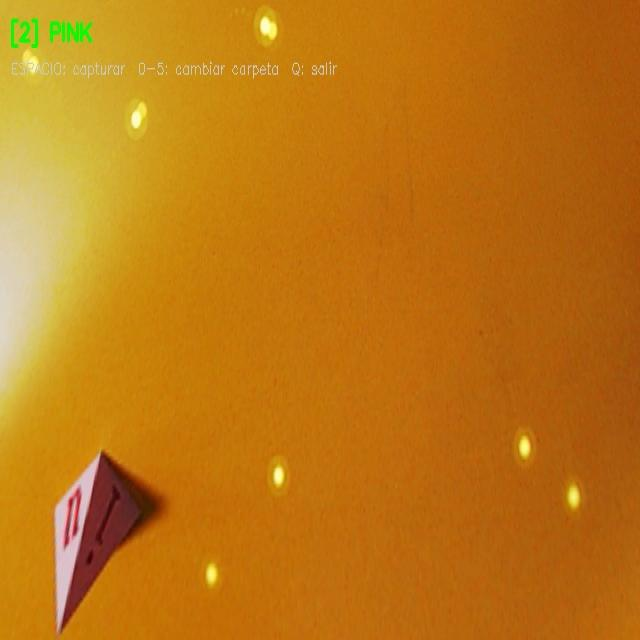pink: (53, 455, 148, 637)
